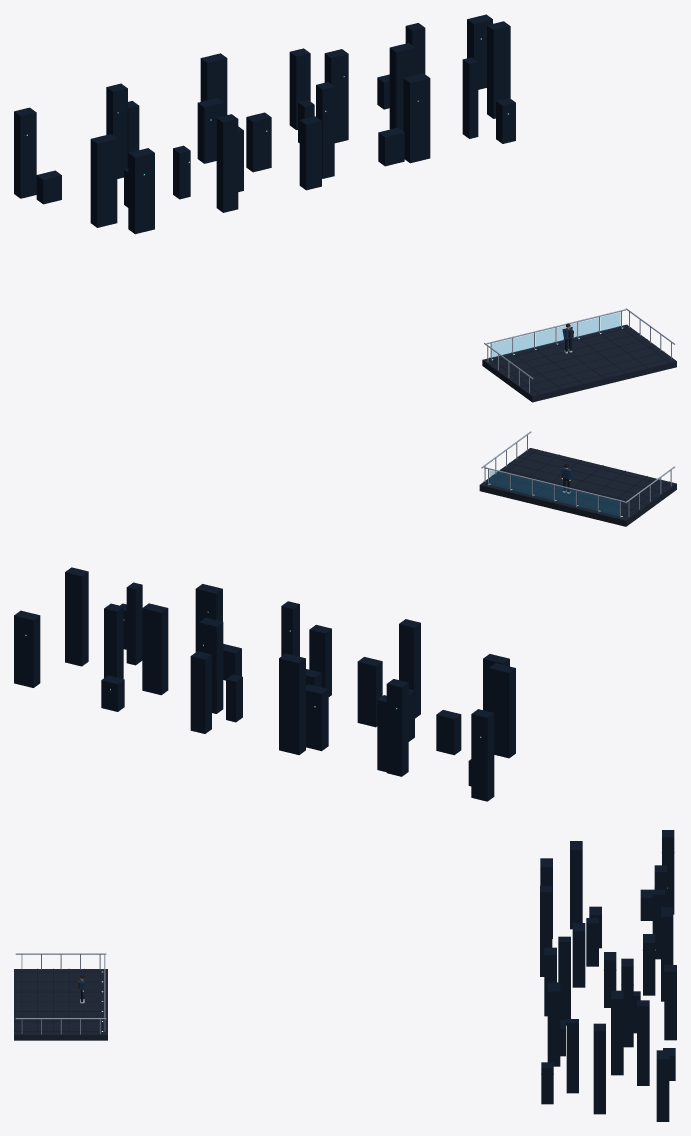
The model's file is lookout_student.glb.
3 renders of one model, top to bottom at view 1: azimuth 30°, elevation 25°; view 2: azimuth 150°, elevation 25°; view 3: azimuth 270°, elevation 25°, orthographic. The views are drawn at different scales.
Parts seen in each view (by area): view 1: object 1, object 52, object 76, object 53, object 61, object 49, object 85, object 73, object 78, object 68, object 56, object 66 (+12 smaller); view 2: object 1, object 65, object 78, object 85, object 52, object 56, object 49, object 86, object 72, object 61, object 62, object 73 (+11 smaller); view 3: object 1, object 85, object 76, object 78, object 81, object 52, object 73, object 69, object 86, object 72, object 82, object 61 (+9 smaller).
Part boxes in pixels (x1,y1,x2,y2): object 1: (482,324,676,402); object 52: (90,134,117,227); object 76: (403,73,430,163); object 53: (128,148,154,234); object 61: (216,114,238,212); object 49: (14,107,36,198); object 85: (487,21,510,118); object 73: (324,49,348,143); object 78: (389,43,415,130); object 68: (299,116,321,190); object 56: (106,83,127,178); object 66: (246,112,271,172); object 1: (479,448,676,526); object 65: (279,653,305,754); object 78: (142,603,168,695); object 85: (65,567,88,666); object 52: (489,663,515,758); object 56: (386,679,408,776); object 49: (471,709,494,801); object 86: (14,610,40,687); object 72: (190,651,211,733); object 61: (399,619,420,718); object 62: (357,657,382,727); object 73: (198,617,223,713); object 1: (14,969,107,1040); object 85: (593,1023,605,1114); object 76: (547,982,560,1066); object 78: (611,990,623,1075); object 81: (637,1000,649,1085); object 52: (570,841,582,929); object 73: (621,958,633,1047); object 69: (558,936,570,1025); object 86: (656,1050,669,1121); object 72: (664,965,676,1040); object 82: (566,1019,578,1093); object 61: (540,885,552,976).
Size of the model in its own units: 32.48 by 5.99 by 42.4.
